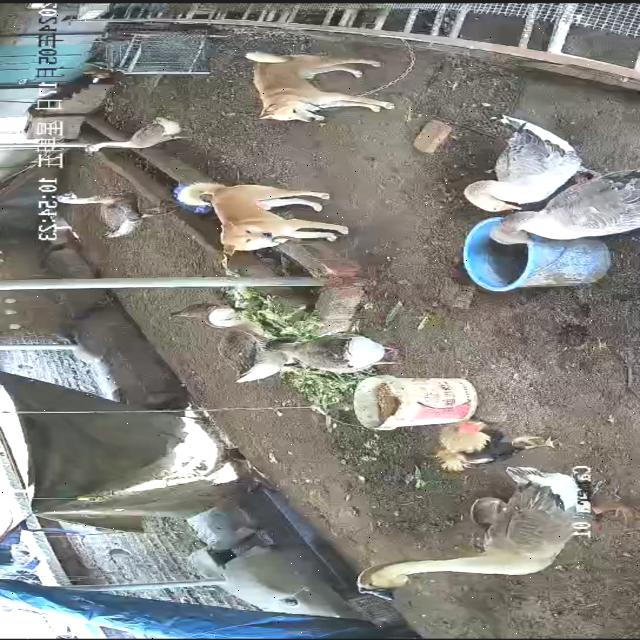dog: (175, 181, 351, 255), (245, 50, 398, 122)
